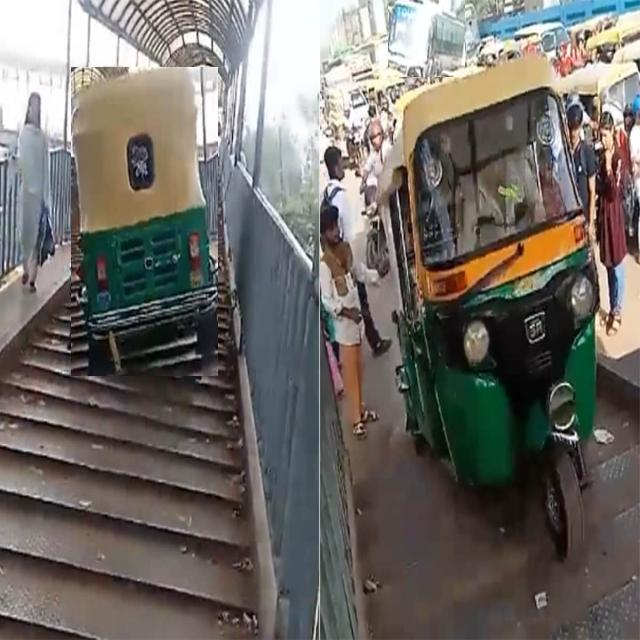autorickshaw: (380, 57, 599, 556), (71, 67, 218, 376)
bus: (388, 0, 465, 77)
